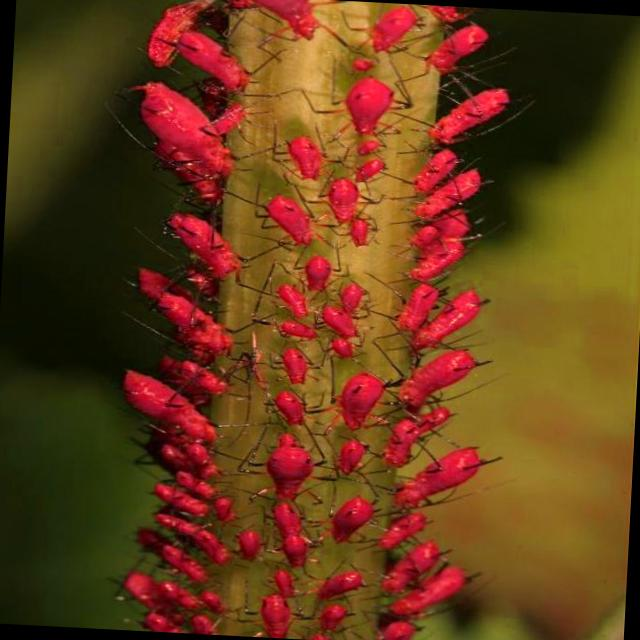aphid: (126, 74, 243, 184), (119, 369, 220, 444), (395, 441, 491, 513), (145, 287, 234, 360), (396, 345, 478, 415), (161, 212, 244, 280), (428, 82, 511, 148), (172, 29, 250, 91), (389, 561, 469, 621), (413, 162, 482, 224), (426, 21, 492, 77), (235, 0, 319, 40), (344, 76, 394, 138), (264, 441, 314, 500), (336, 371, 384, 432), (150, 539, 213, 585), (394, 282, 441, 338), (264, 194, 314, 246), (370, 4, 418, 54), (328, 494, 374, 546), (135, 266, 182, 308), (316, 568, 364, 606), (270, 500, 305, 550), (286, 135, 324, 180), (122, 570, 165, 608), (326, 178, 360, 225), (258, 592, 292, 638), (279, 346, 310, 387), (274, 390, 306, 428), (304, 254, 332, 294), (338, 439, 365, 477), (236, 528, 262, 564), (354, 156, 384, 186), (339, 282, 364, 314), (331, 338, 354, 359)
